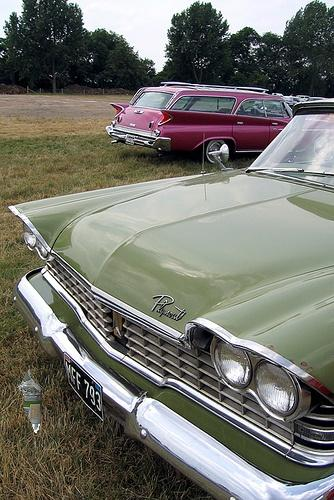tampered: (18, 370, 42, 433)
